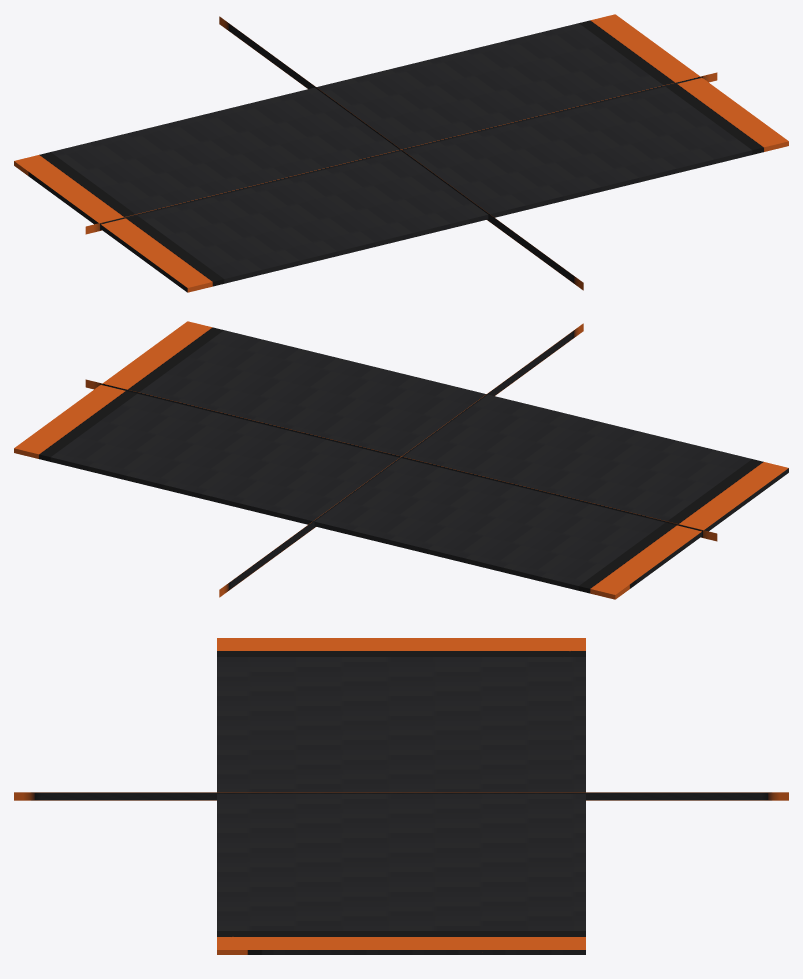
File: mat_orange_trim_4x2.dae
The picture shows the model from 3 angles, top to bottom: view 1: azimuth 30°, elevation 25°; view 2: azimuth 150°, elevation 25°; view 3: azimuth 270°, elevation 25°; orthographic projection. The views are drawn at different scales.
Parts seen in each view (by area): view 1: mat_orange_trim_4x2_a800, mat_orange_trim_4x2_a50; view 2: mat_orange_trim_4x2_a800, mat_orange_trim_4x2_a50, mat_orange_trim_4x2_a200; view 3: mat_orange_trim_4x2_a800, mat_orange_trim_4x2_a50.
Boxes of the visible parts, <box> form: mat_orange_trim_4x2_a800: <box>14,14,788,292</box>; mat_orange_trim_4x2_a50: <box>85,16,717,290</box>; mat_orange_trim_4x2_a800: <box>14,321,788,599</box>; mat_orange_trim_4x2_a50: <box>85,323,717,597</box>; mat_orange_trim_4x2_a200: <box>72,465,776,598</box>; mat_orange_trim_4x2_a800: <box>217,638,585,954</box>; mat_orange_trim_4x2_a50: <box>14,792,788,800</box>.
Bounding box in the file's own units: 4.2 × 4.2 × 0.051.
Materials: 2 (1 with a texture image).
